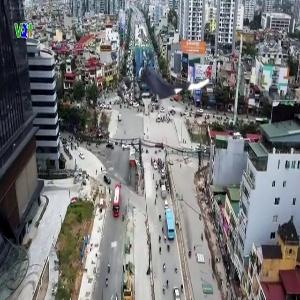drone: (129, 41, 208, 120)
